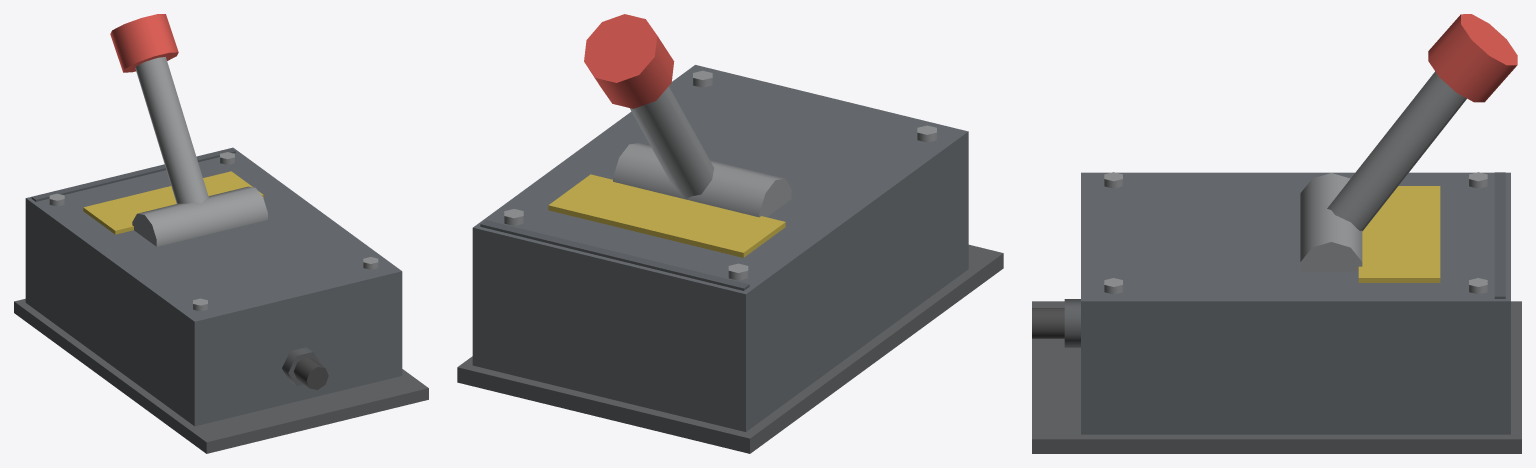
Rendered from liLever_steel.glb.
3 views of the same model, side by side, from view 1: azimuth 30°, elevation 25°; view 2: azimuth 150°, elevation 25°; view 3: azimuth 270°, elevation 25° (orthographic). The views are drawn at different scales.
Visible parts, largest first — view 1: liLever_steel; view 2: liLever_steel; view 3: liLever_steel.
Part boxes in pixels (bbox=[...]): liLever_steel: bbox=[14, 14, 428, 453]; liLever_steel: bbox=[457, 14, 1003, 453]; liLever_steel: bbox=[1032, 14, 1521, 453].
Size of the model in its own units: 0.12 by 0.1483 by 0.18.
